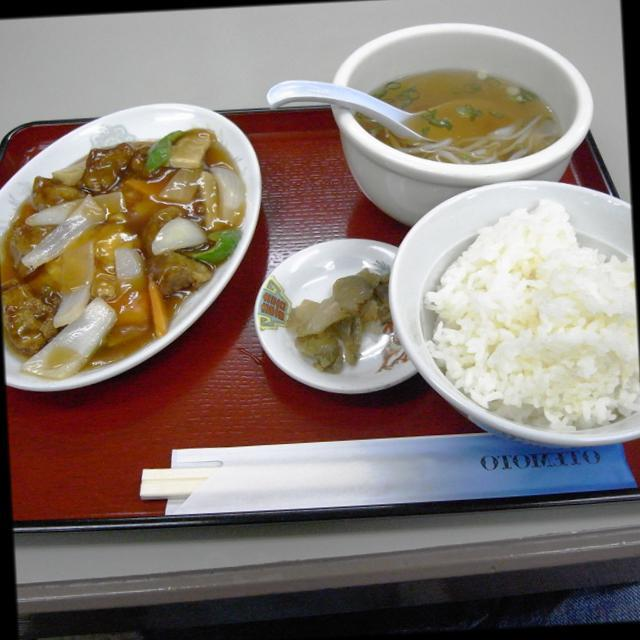Rice: (438, 175, 640, 485)
